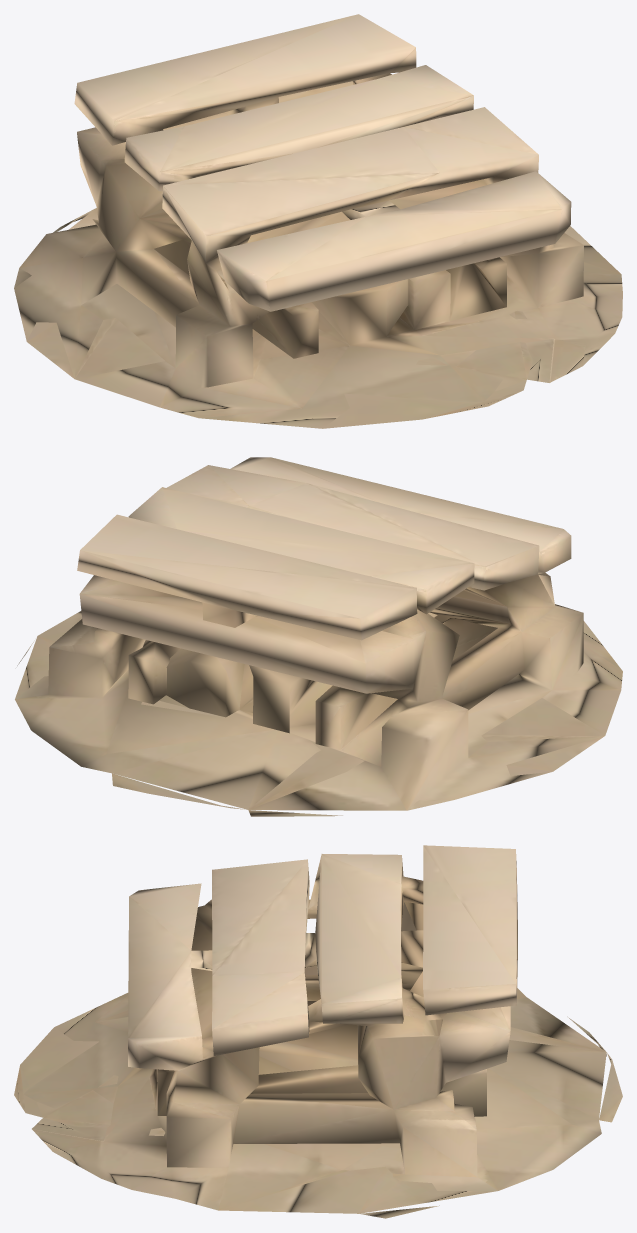
3 views of the same model, one above another, from view 1: azimuth 30°, elevation 25°; view 2: azimuth 150°, elevation 25°; view 3: azimuth 270°, elevation 25° (orthographic).
Size of the model in its own units: 1.86 by 0.6106 by 1.89.
Materials: 1 (1 with a texture image).
